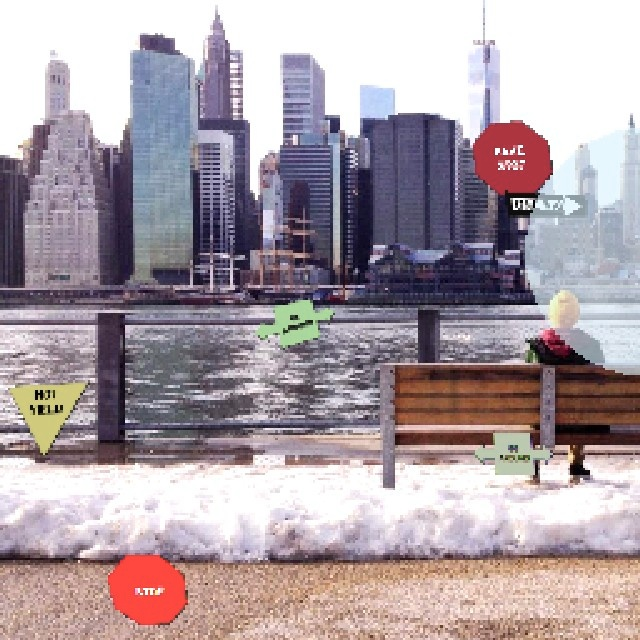FAKE_STOP: (470, 119, 552, 195)
GO_AROUND: (252, 296, 334, 348), (471, 430, 553, 475)
NOT_YIELD: (6, 380, 88, 457)
ONE_WAY_ right: (504, 190, 586, 216)
STOP: (105, 553, 187, 625)
